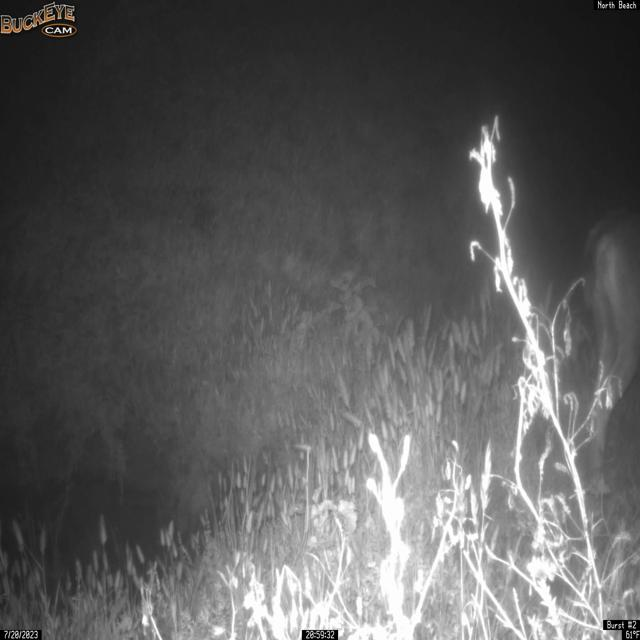deer: (579, 204, 640, 499)
